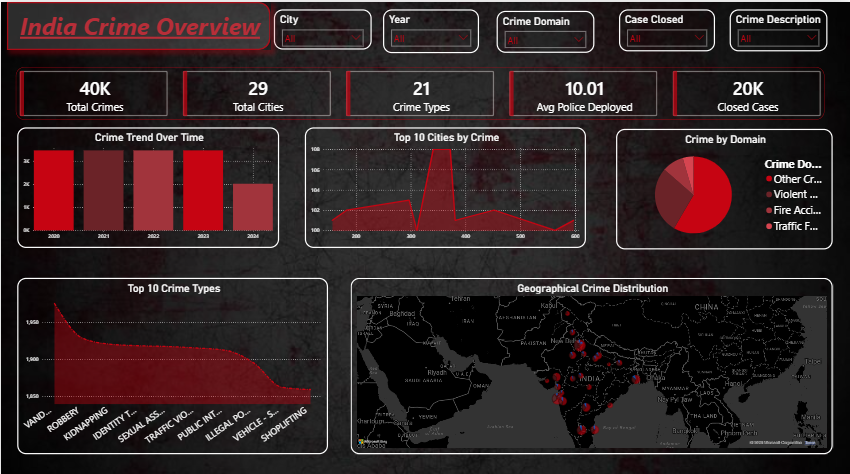

The dashboard page shown, as its layout file describes it:
{"tool":"powerbi","page":{"name":"Overview","canvas":[1920,1080],"ordinal":1},"visuals":[{"type":"textbox","box":[14.7,14.7,601.5,93.9],"z":0},{"type":"slicer","title":"Year","fields":{"Values":["crime_clean_data.Year"]},"box":[864.5,15.8,217.1,98.7],"z":1000},{"type":"slicer","title":"City","fields":{"Values":["crime_clean_data.City"]},"box":[615.8,15.8,221.1,90.8],"z":2000},{"type":"slicer","title":"Crime Domain","fields":{"Values":["crime_clean_data.Crime Domain"]},"box":[1121.1,19.7,221.1,94.7],"z":3000},{"type":"slicer","title":"Crime Description","fields":{"Values":["crime_clean_data.Year"]},"box":[1646.2,15.8,221.1,94.7],"z":4000},{"type":"slicer","title":"Case Closed","fields":{"Values":["crime_clean_data.City"]},"box":[1397.5,15.8,217.1,94.7],"z":5000},{"type":"cardVisual","title":"Crime Description","fields":{"Data":["crime_clean_data.Total Crimes","crime_clean_data.Total Cities","crime_clean_data.Crime Types","crime_clean_data.Avg Police Deployed","crime_clean_data.Closed Cases"]},"box":[15.8,130.3,1863.3,154],"z":6000},{"type":"columnChart","title":"Crime Trend Over Time","fields":{"Category":["crime_clean_data.Year"],"Y":["crime_clean_data.Total Crimes"]},"box":[35.5,284.2,592.2,272.4],"z":7000},{"type":"stackedAreaChart","title":"Top 10 Crime Types","fields":{"Category":["crime_clean_data.Crime Description"],"Y":["CountNonNull(crime_clean_data.Crime Description)"]},"box":[35.5,623.7,702.7,398.7],"z":8000},{"type":"areaChart","title":"Top 10 Cities by Crime","fields":{"Category":["crime_clean_data.Crime Code"],"Y":["CountNonNull(crime_clean_data.City)"]},"box":[686.9,284.2,635.6,272.4],"z":9000},{"type":"pieChart","title":"Crime by Domain","fields":{"Category":["crime_clean_data.Crime Domain"],"Y":["crime_clean_data.Total Crimes"]},"box":[1389.6,288.2,489.5,272.4],"z":10000},{"type":"map","title":"Geographical Crime Distribution","fields":{"Series":["crime_clean_data.Crime Domain"],"Size":["crime_clean_data.Total Crimes"],"Category":["crime_clean_data.City"]},"box":[789.5,623.7,1089.6,398.7],"z":11000},{"type":"shape","box":[11.7,0,595.6,108.5],"z":12000}]}

Visuals, with their boxes in screenshot pixels (x1, y1, x2, y2), scaled from the page's 1920x1080 canvas onto the 850x474 screenshot:
textbox: (7, 6, 273, 48)
"Year" slicer: (383, 7, 479, 50)
"City" slicer: (273, 7, 371, 47)
"Crime Domain" slicer: (496, 9, 594, 50)
"Crime Description" slicer: (729, 7, 827, 48)
"Case Closed" slicer: (619, 7, 715, 48)
"Crime Description" cardVisual: (7, 57, 832, 125)
"Crime Trend Over Time" columnChart: (16, 125, 278, 244)
"Top 10 Crime Types" stackedAreaChart: (16, 274, 327, 449)
"Top 10 Cities by Crime" areaChart: (304, 125, 585, 244)
"Crime by Domain" pieChart: (615, 126, 832, 246)
"Geographical Crime Distribution" map: (350, 274, 832, 449)
shape: (5, 0, 269, 48)
